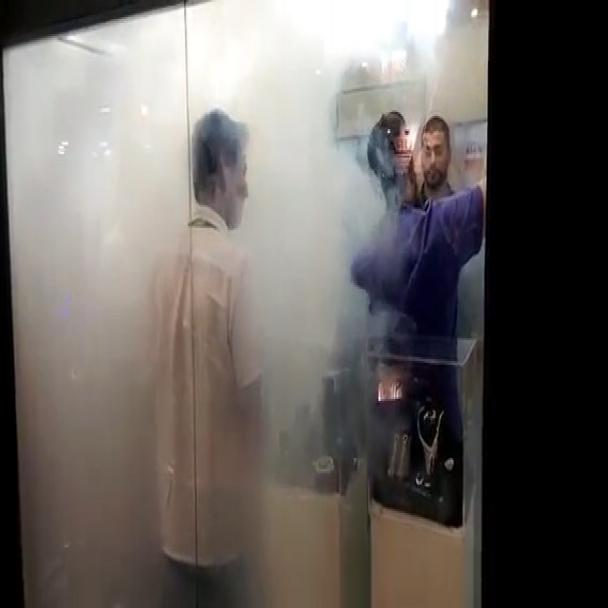smoke: (10, 44, 472, 606)
